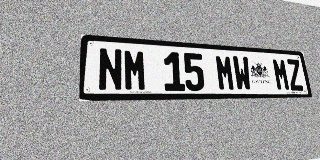1: (163, 51, 185, 91)
5: (183, 53, 205, 91)
M: (123, 49, 147, 91), (215, 54, 236, 91), (272, 58, 291, 91)
N: (98, 47, 123, 91)
W: (232, 56, 252, 91)
Z: (286, 59, 304, 91)
